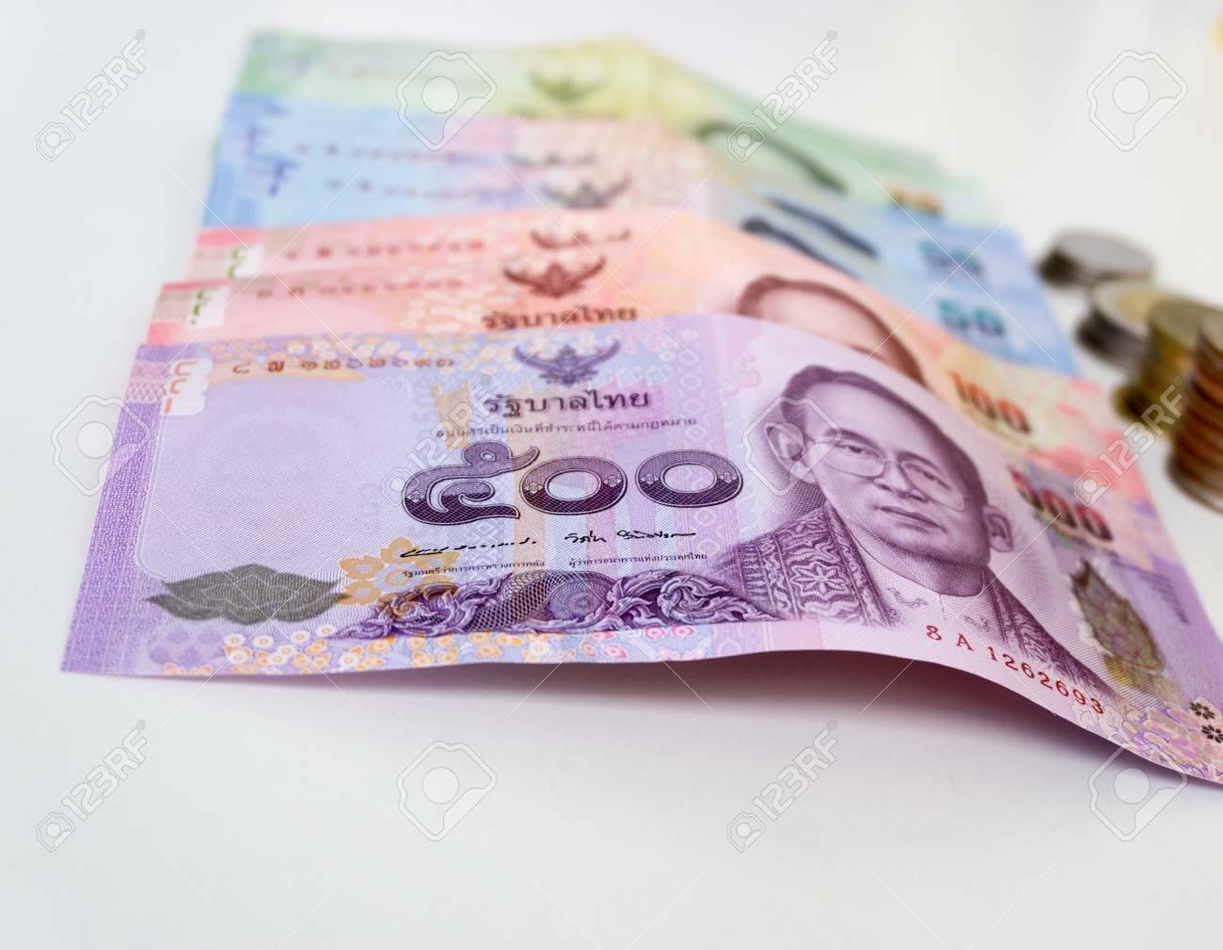500BahtTai: (31, 316, 1210, 726)
